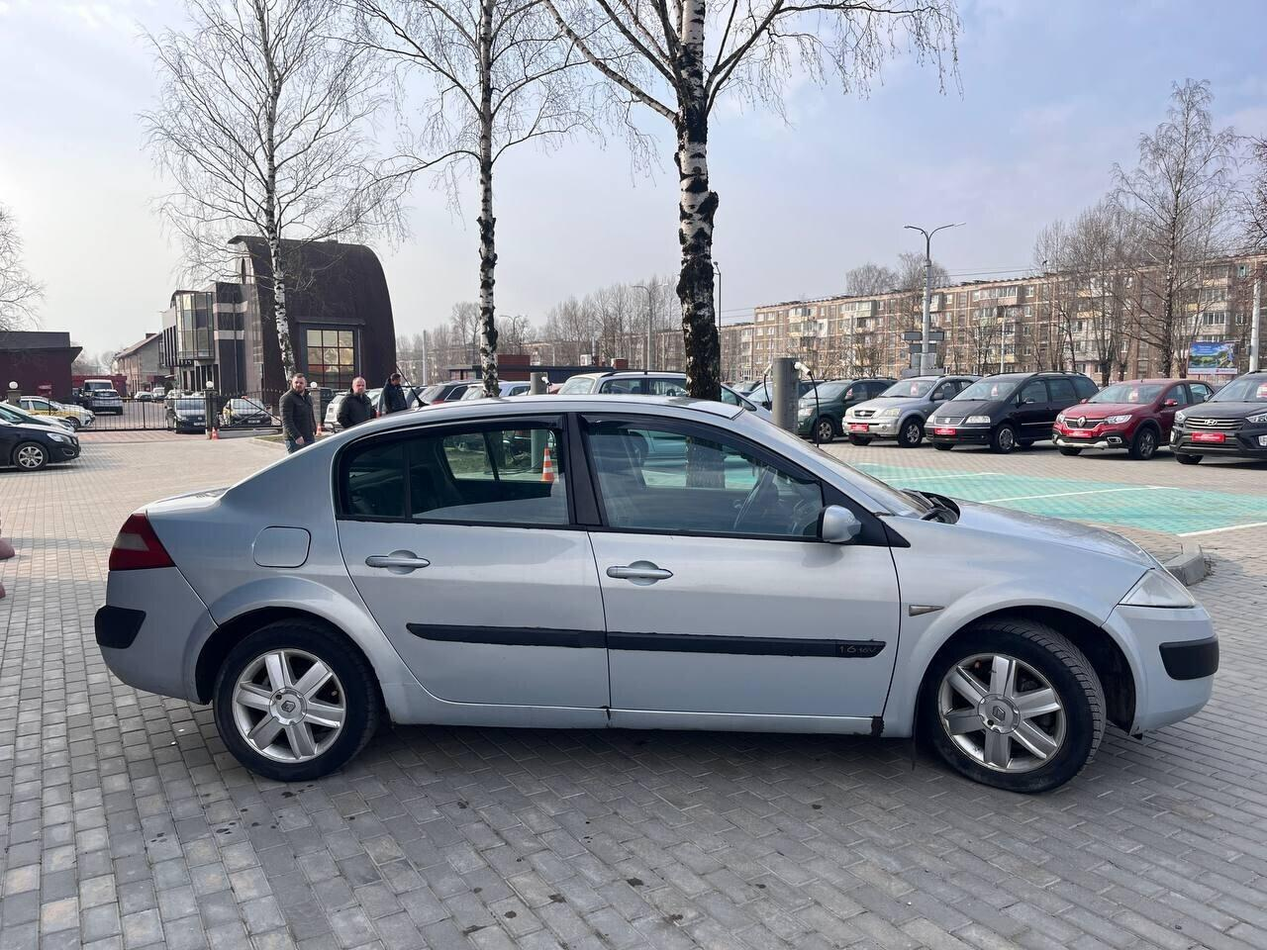Megane_2002-2006: (74, 381, 1220, 794)
